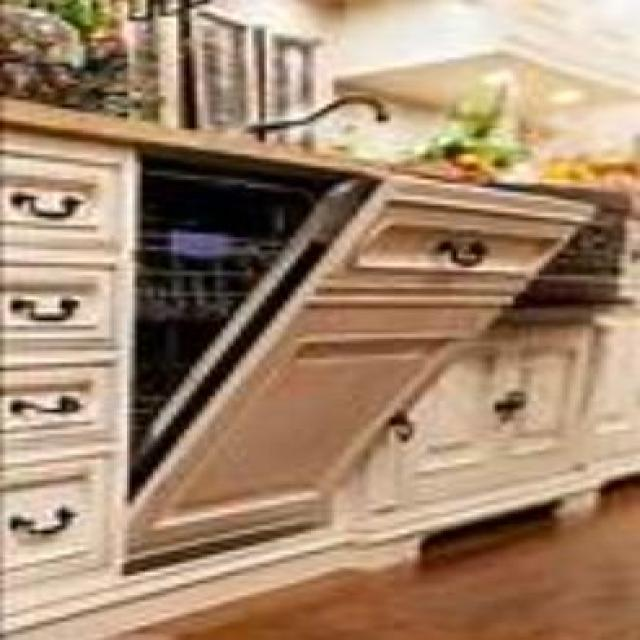dishwasher: (132, 140, 591, 571)
